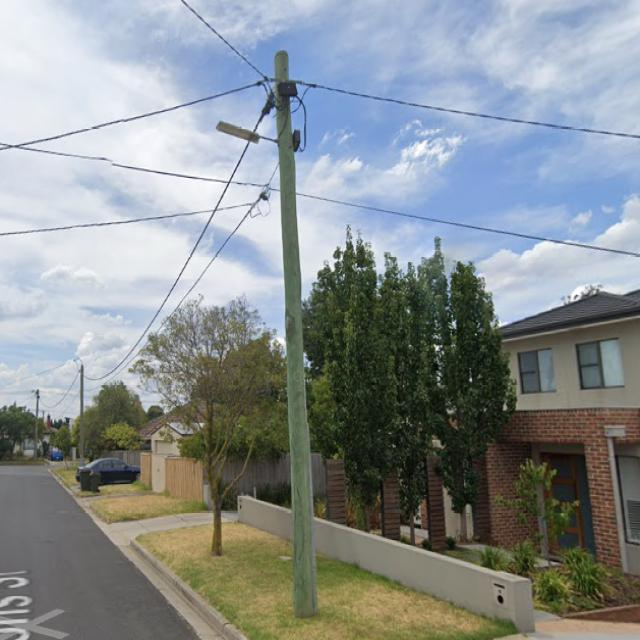streetlight: (214, 118, 280, 145)
timber-pole: (272, 49, 318, 620), (34, 389, 40, 462), (80, 364, 84, 467)
